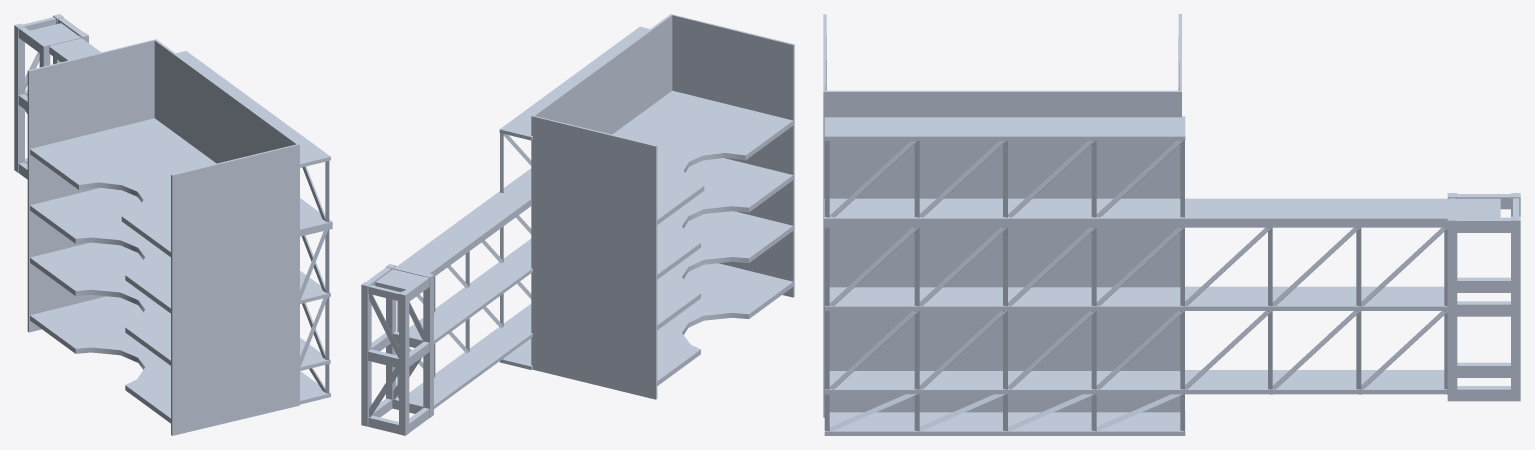
File: FaSheTa-Bi02.FBX
3 renders of one model, left to right at view 1: azimuth 30°, elevation 25°; view 2: azimuth 150°, elevation 25°; view 3: azimuth 270°, elevation 25°, orthographic. The views are drawn at different scales.
Parts seen in each view (by area): view 1: FaSheTa-Bi02; view 2: FaSheTa-Bi02; view 3: FaSheTa-Bi02.
Boxes of the visible parts, x1=… form: FaSheTa-Bi02: x1=14, y1=14, x2=332, y2=435; FaSheTa-Bi02: x1=361, y1=14, x2=794, y2=435; FaSheTa-Bi02: x1=823, y1=14, x2=1520, y2=435.
Bounding box in the file's own units: 40.07 × 59.52 × 116.
